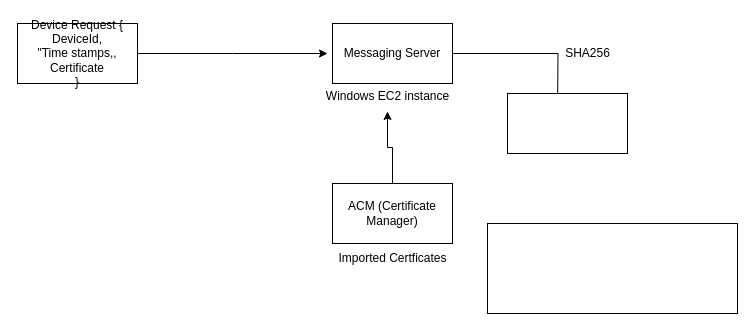
Image size: 755x331. Some labels were removed from this diagram. The shapes that lost their labels are listed below. From the top down, each one's box as (x1, y1, x2, y2) in pixels, then its label:
(506, 92, 628, 154): Windows Registry
(486, 222, 738, 314): Containerization
